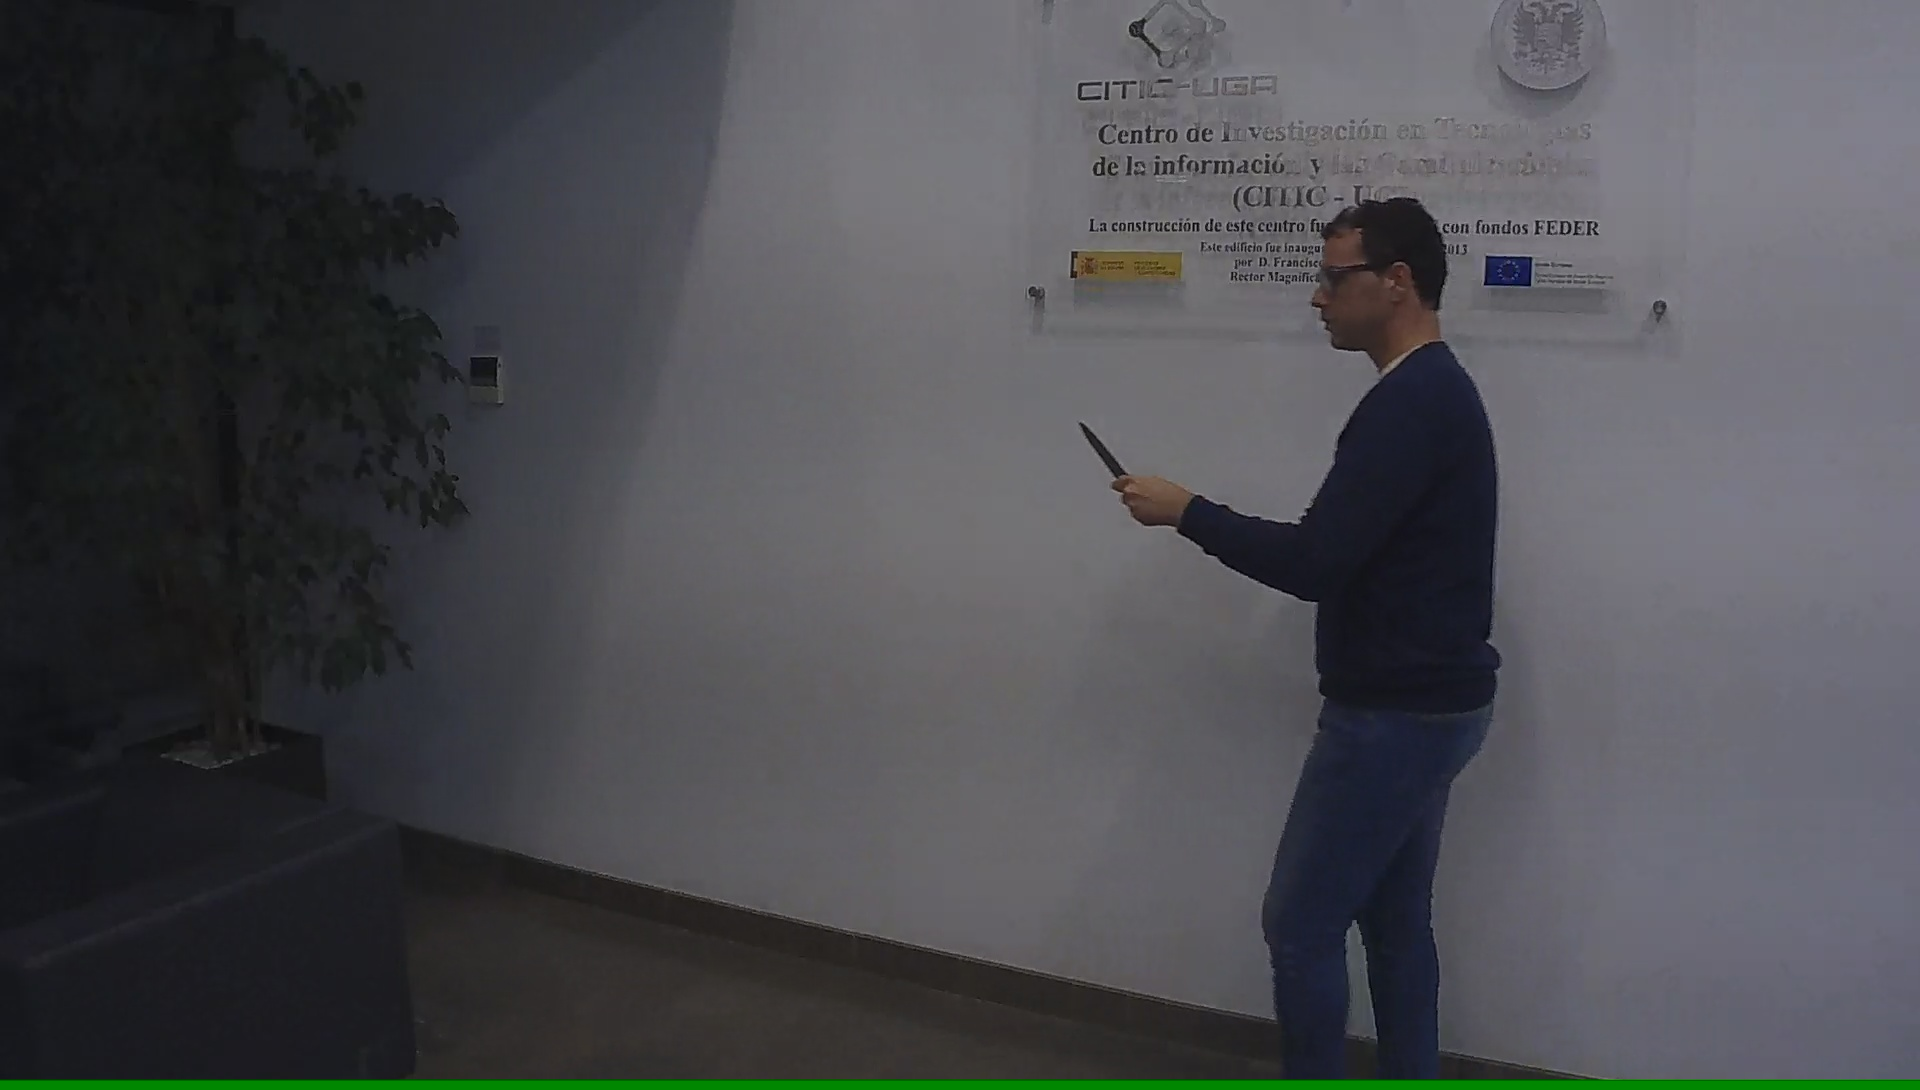knife: (1069, 410, 1160, 532)
